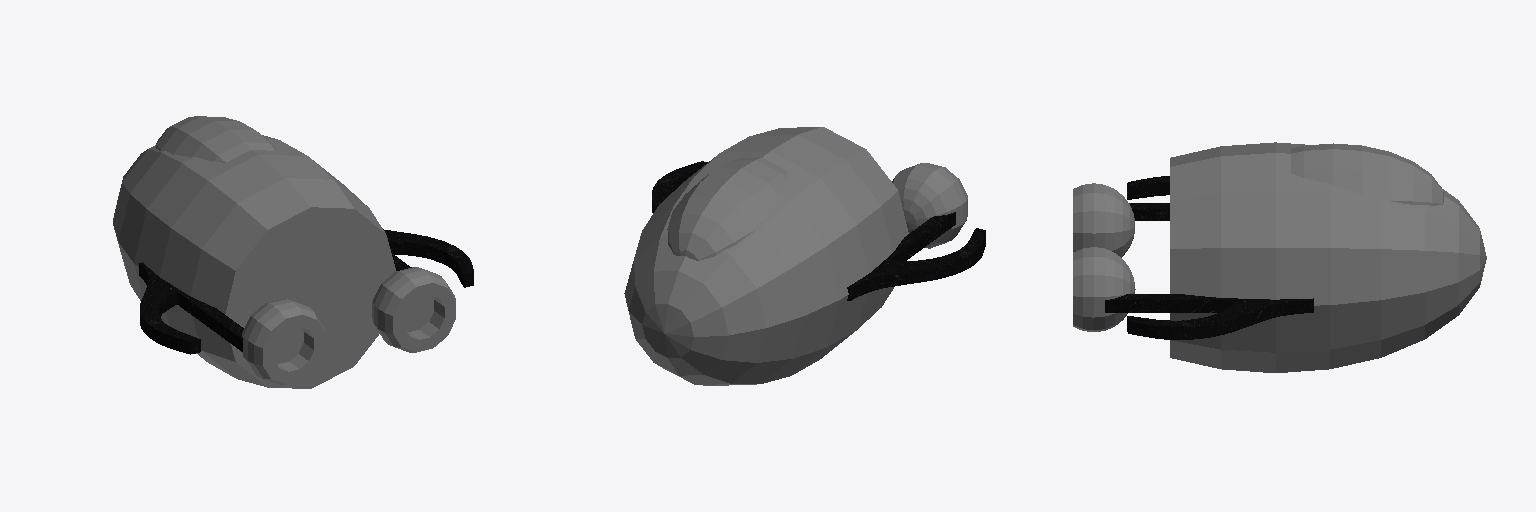
3 renders of one model, left to right at view 1: azimuth 30°, elevation 25°; view 2: azimuth 150°, elevation 25°; view 3: azimuth 270°, elevation 25°, orthographic.
Visible parts, largest first — view 1: Player_Ship:pSphere9; view 2: Player_Ship:pSphere9; view 3: Player_Ship:pSphere9.
Boxes of the visible parts, box(x1,y1,x2,y2) form: Player_Ship:pSphere9: box(113, 116, 473, 388); Player_Ship:pSphere9: box(624, 127, 985, 385); Player_Ship:pSphere9: box(1073, 142, 1486, 372).
Bounding box in the file's own units: 7.94 × 5.22 × 9.15.
Materials: 2 (1 with a texture image).